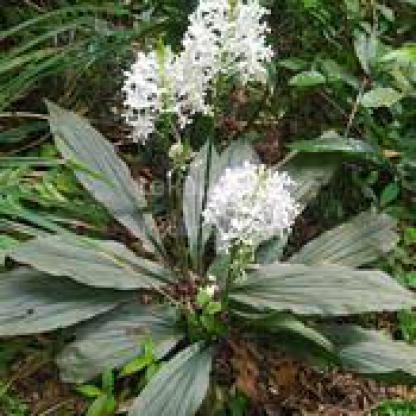ANGGREK: (89, 8, 365, 327)
